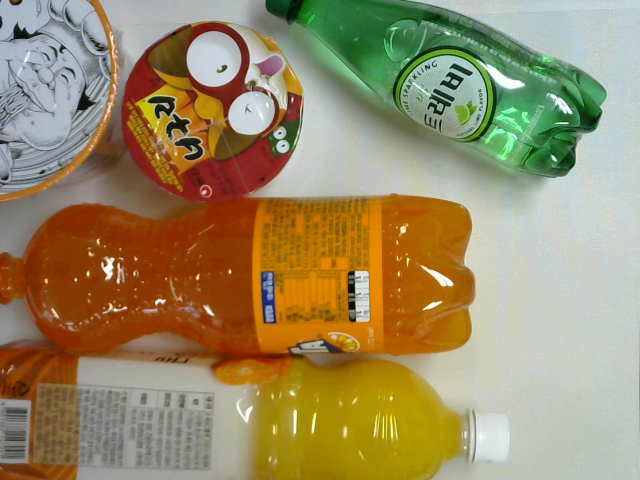Hejangchan: (1, 1, 140, 204)
Hwanta_Orange_1.5L: (1, 191, 475, 359)
Jeju_Tangerine_1.5L: (1, 344, 513, 479)
Raccoon: (116, 15, 305, 205)
Treviraim_500ml: (264, 1, 608, 186)
